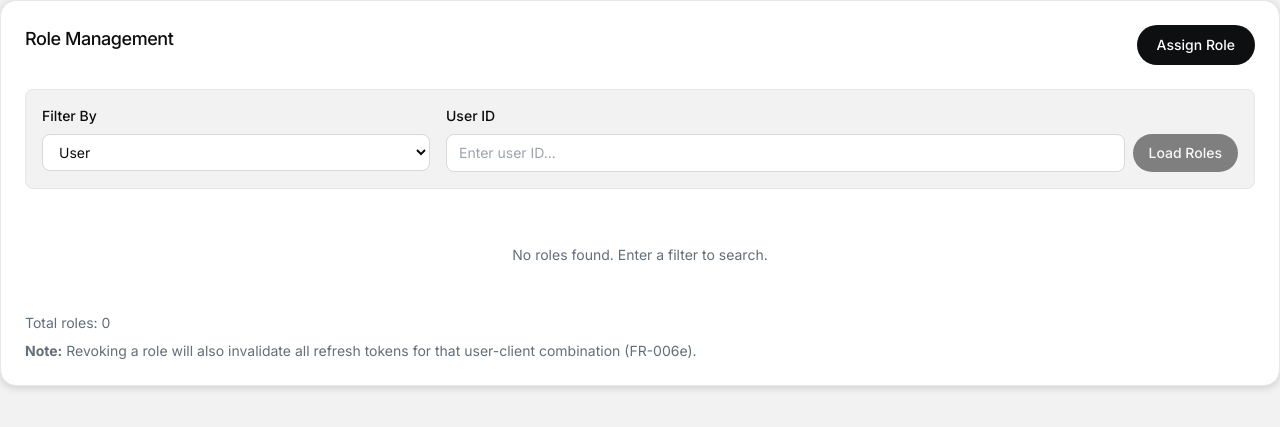
Test: RoleManagement Component › loads and displays client roles when filter is changed
# Change filter to client
Step 1. Select "Client" in the dropdown showing "User" → point(236, 152), box [42,134,430,171]
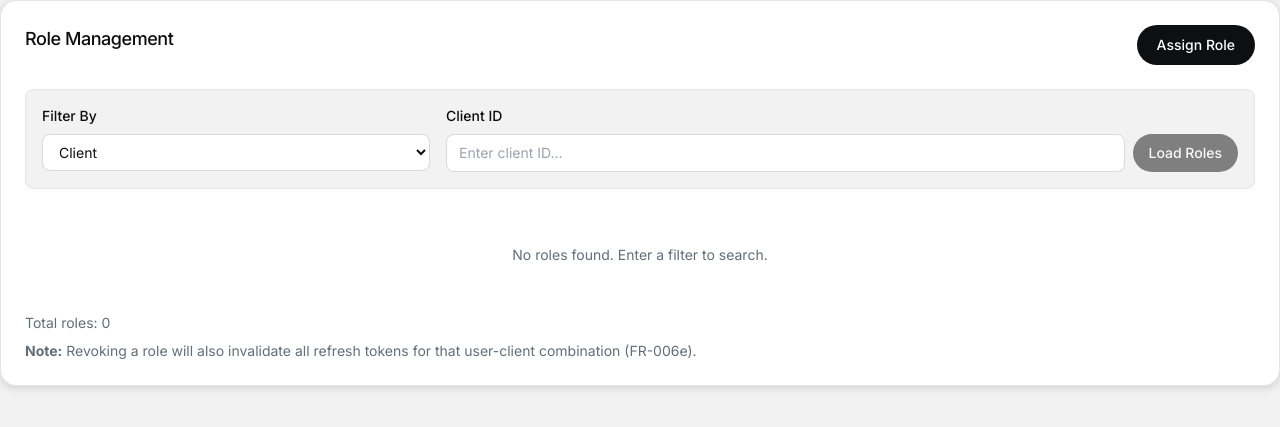
# Enter client ID
Step 2. Type "client-1" into the field with placeholder "Enter client ID..." → point(785, 153), box [446,134,1124,172]
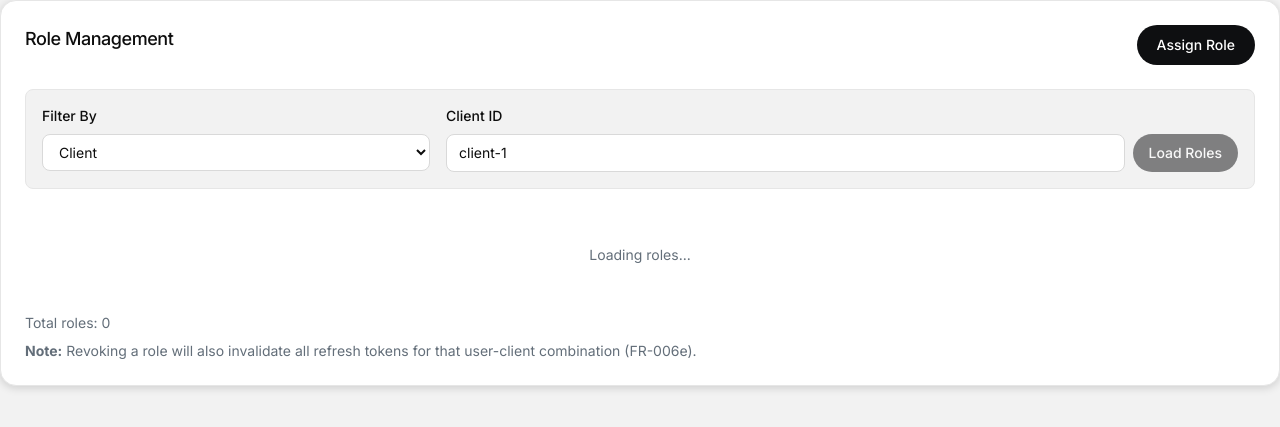
# Click load button
Step 3. Click the button "Load Roles" → point(1185, 153), box [1132,134,1238,172]
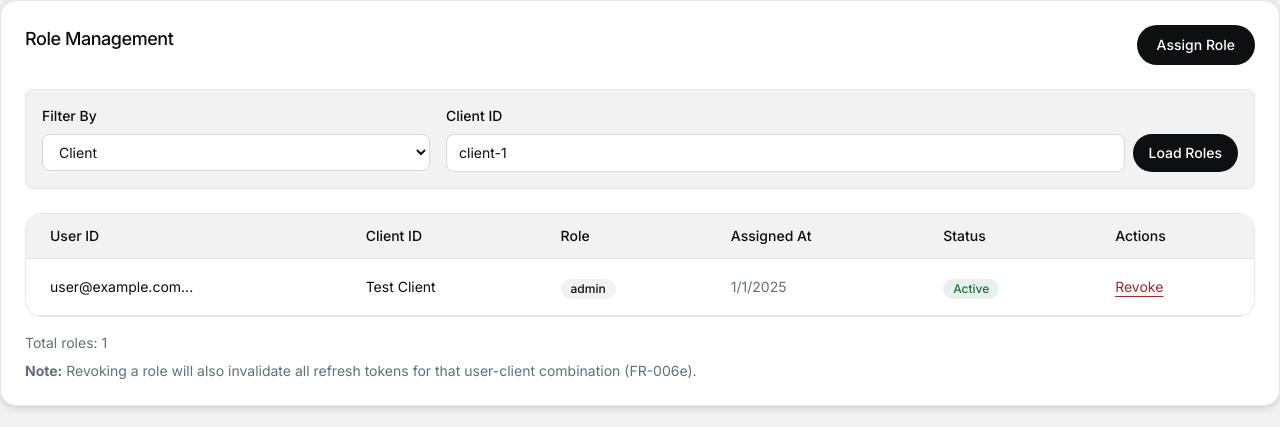
Expected: the text "Test Client" is shown, [342,258,536,316]
